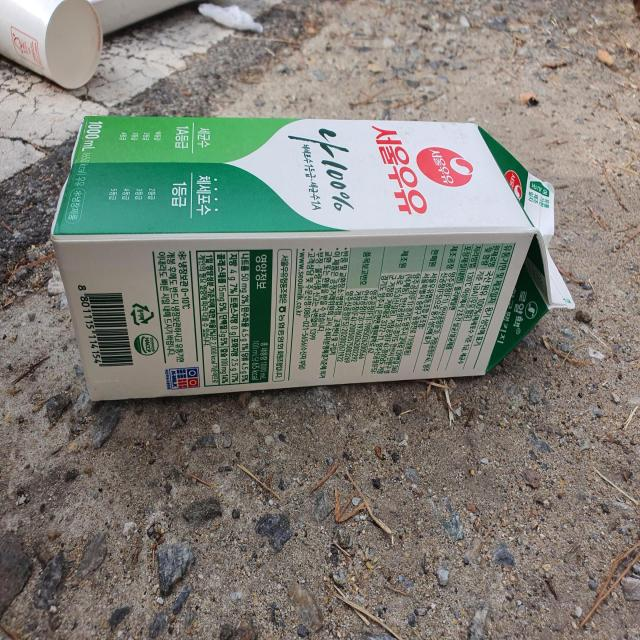paperpack: (51, 115, 575, 401)
